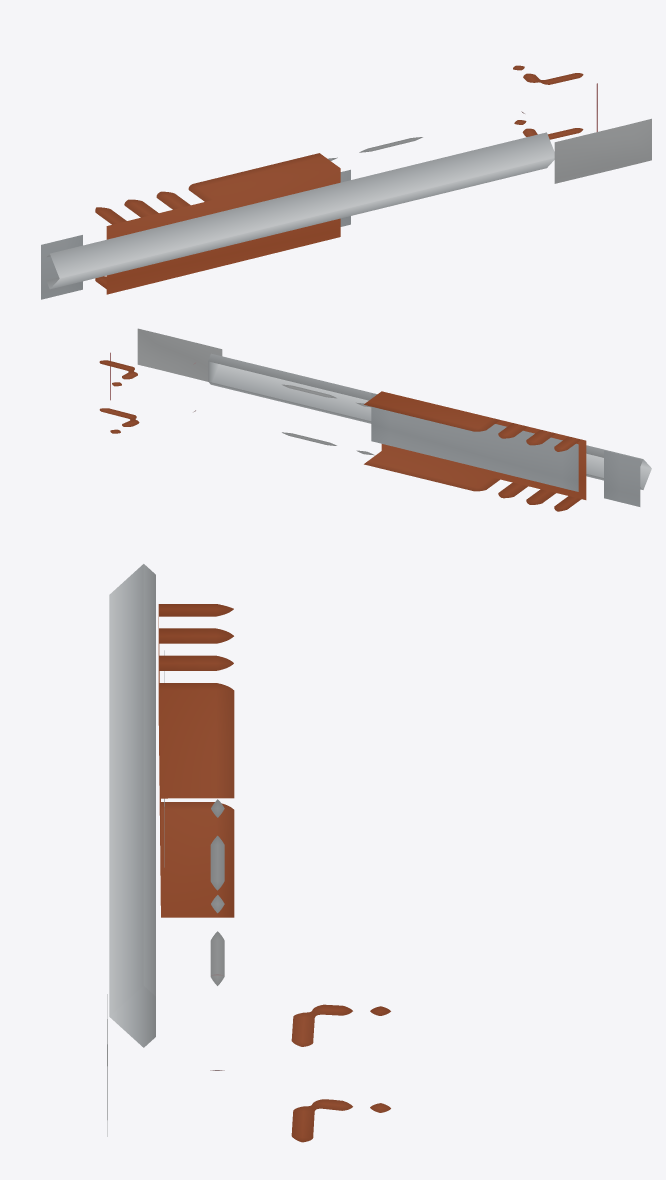
The model's file is Shotgun.fbx.
3 views of the same model, one above another, from view 1: azimuth 30°, elevation 25°; view 2: azimuth 150°, elevation 25°; view 3: azimuth 270°, elevation 25° (orthographic). The views are drawn at different scales.
Parts seen in each view (by area): view 1: Shotgun; view 2: Shotgun; view 3: Shotgun.
Boxes of the visible parts, bbox=[...] form: Shotgun: bbox=[41, 65, 651, 299]; Shotgun: bbox=[99, 328, 651, 511]; Shotgun: bbox=[107, 564, 390, 1142].
Size of the model in its own units: 80.16 by 8.62 by 29.59.
